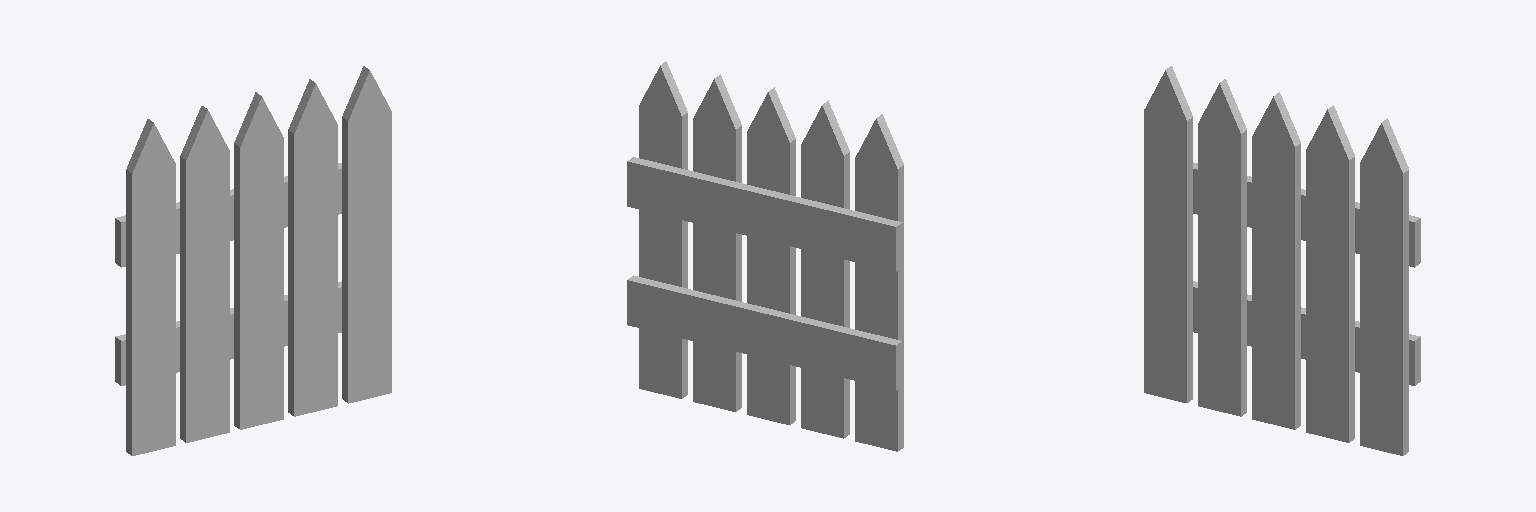
Rendered from fence.obj.
3 renders of one model, left to right at view 1: azimuth 30°, elevation 25°; view 2: azimuth 150°, elevation 25°; view 3: azimuth 330°, elevation 25°, orthographic.
Parts seen in each view (by area): view 1: Fence_Full.001; view 2: Fence_Full.001; view 3: Fence_Full.001.
Part boxes in pixels (left/top/right/bottom): Fence_Full.001: left=115, top=66, right=391, bottom=455; Fence_Full.001: left=627, top=61, right=903, bottom=451; Fence_Full.001: left=1144, top=66, right=1420, bottom=455.
Size of the model in its own units: 0.633 by 0.7382 by 0.0508.